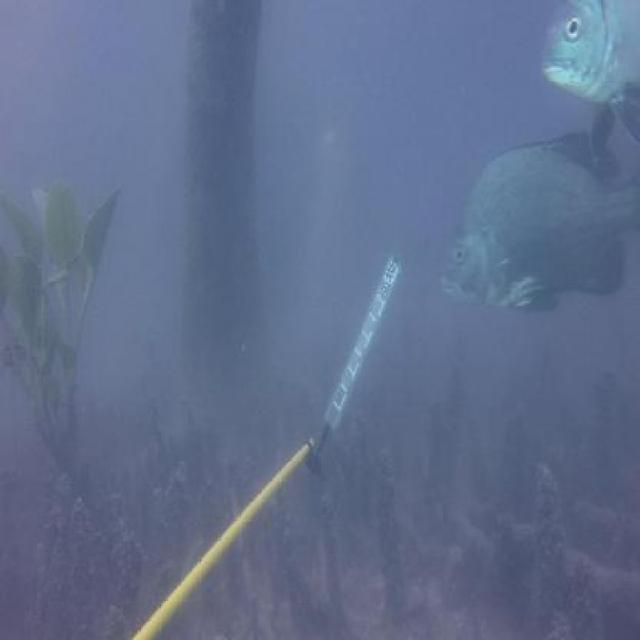acanthopagrus_palmaris: (435, 125, 640, 322), (541, 0, 640, 164)
